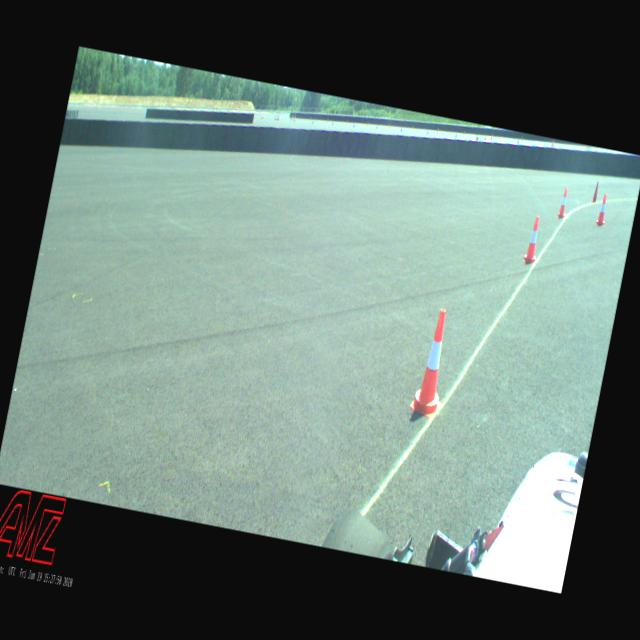orange_cone: (409, 306, 458, 419), (523, 216, 544, 264), (596, 194, 610, 226), (557, 188, 571, 218)
